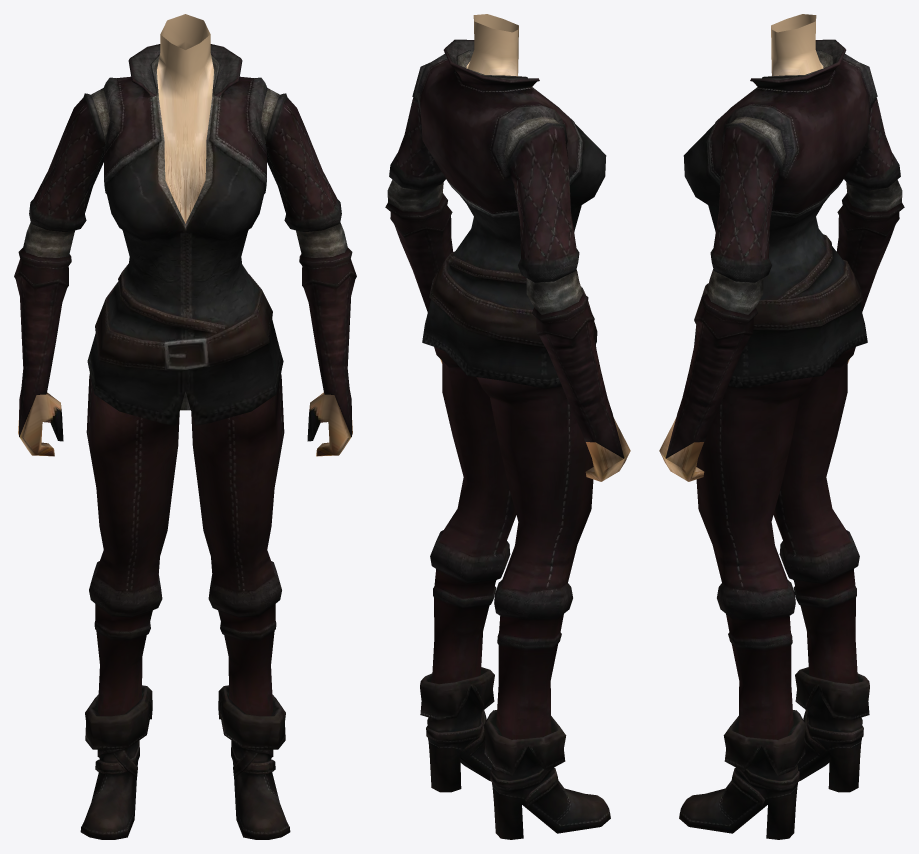
File: KOSA_TRISS_BLACK.glb
3 renders of one model, left to right at view 1: azimuth 30°, elevation 25°; view 2: azimuth 150°, elevation 25°; view 3: azimuth 270°, elevation 25°, orthographic.
Visible parts, largest first — view 1: KOSA_TRISS_BLACK; view 2: KOSA_TRISS_BLACK; view 3: KOSA_TRISS_BLACK.
Part boxes in pixels (x1,y1,x2,y2): KOSA_TRISS_BLACK: (14, 14, 356, 839); KOSA_TRISS_BLACK: (385, 14, 630, 839); KOSA_TRISS_BLACK: (659, 14, 904, 839).
Bounding box in the file's own units: 0.623 × 1.67 × 0.4705.
2 materials, 2 textured.
